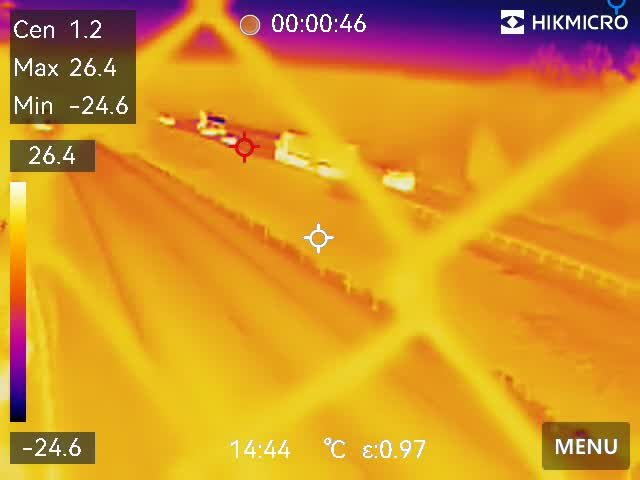heavyTruck: (272, 126, 357, 180), (195, 110, 224, 126)
vehicle: (382, 168, 414, 193), (153, 113, 178, 128), (219, 131, 236, 147)
